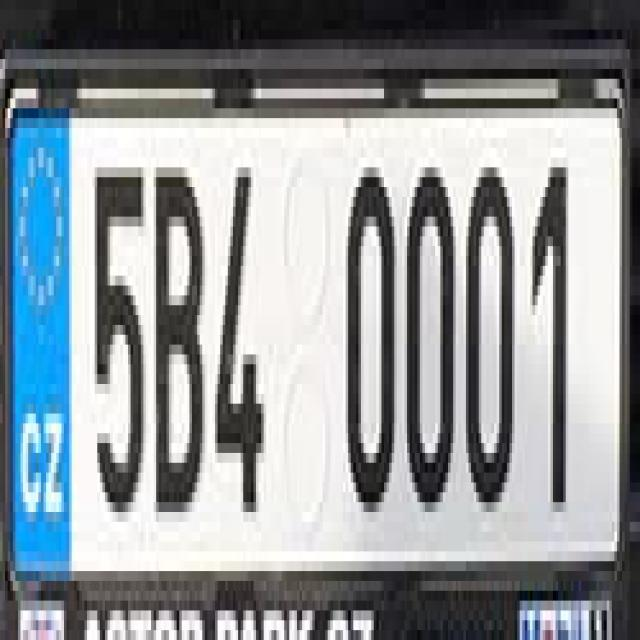EU: (7, 80, 628, 583)
Tcheque: (10, 119, 73, 581)
